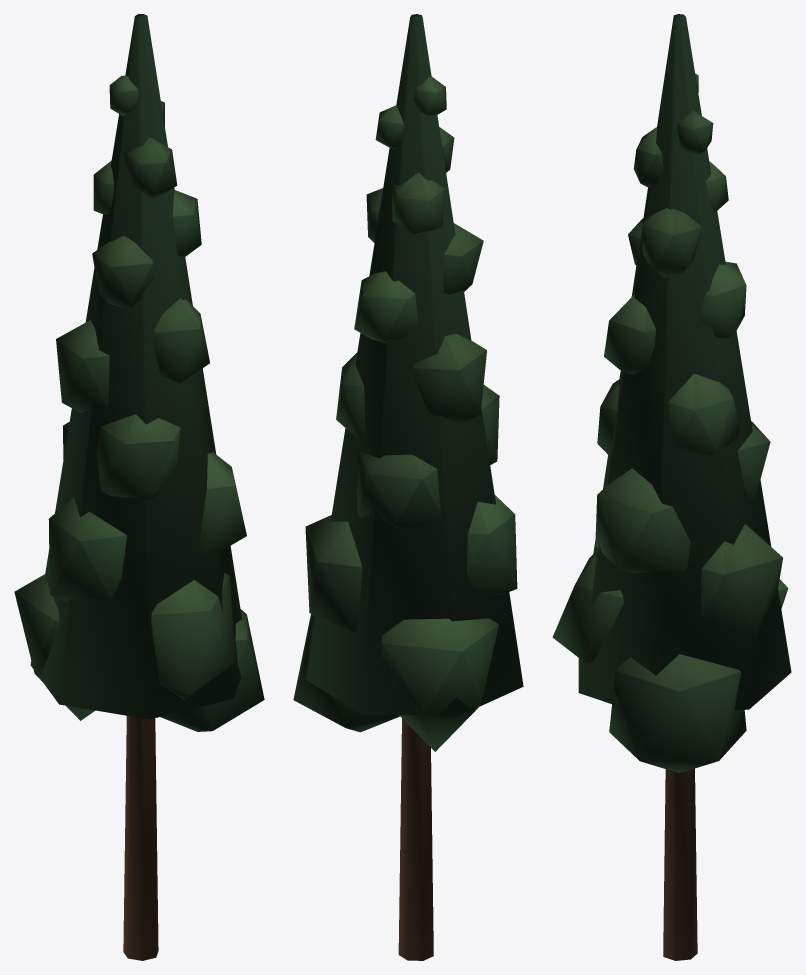
File: env_sugi_a.glb
3 views of the same model, side by side, from view 1: azimuth 30°, elevation 25°; view 2: azimuth 150°, elevation 25°; view 3: azimuth 270°, elevation 25° (orthographic).
Parts seen in each view (by area): view 1: env_sugi_a; view 2: env_sugi_a; view 3: env_sugi_a.
Part boxes in pixels (box(x1,y1,x2,y2)): env_sugi_a: box(14, 14, 264, 960); env_sugi_a: box(293, 14, 523, 960); env_sugi_a: box(552, 14, 791, 960).
Bounding box in the file's own units: 5.41 × 24 × 5.55.
